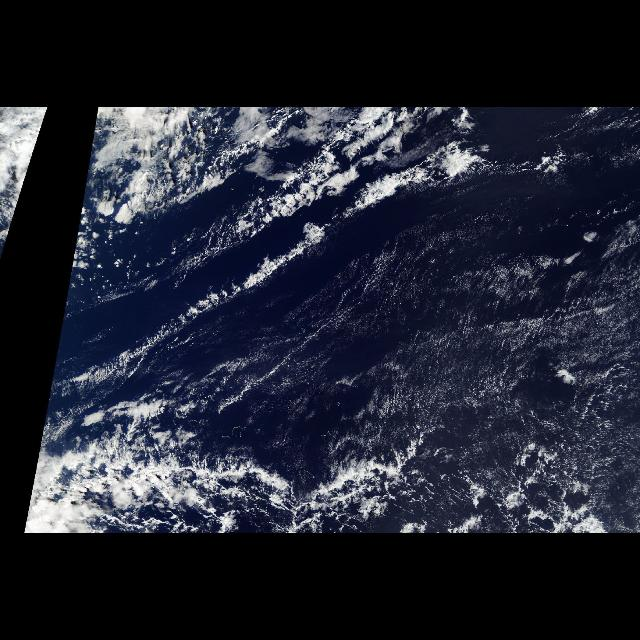Sugar: (354, 255, 626, 499)
